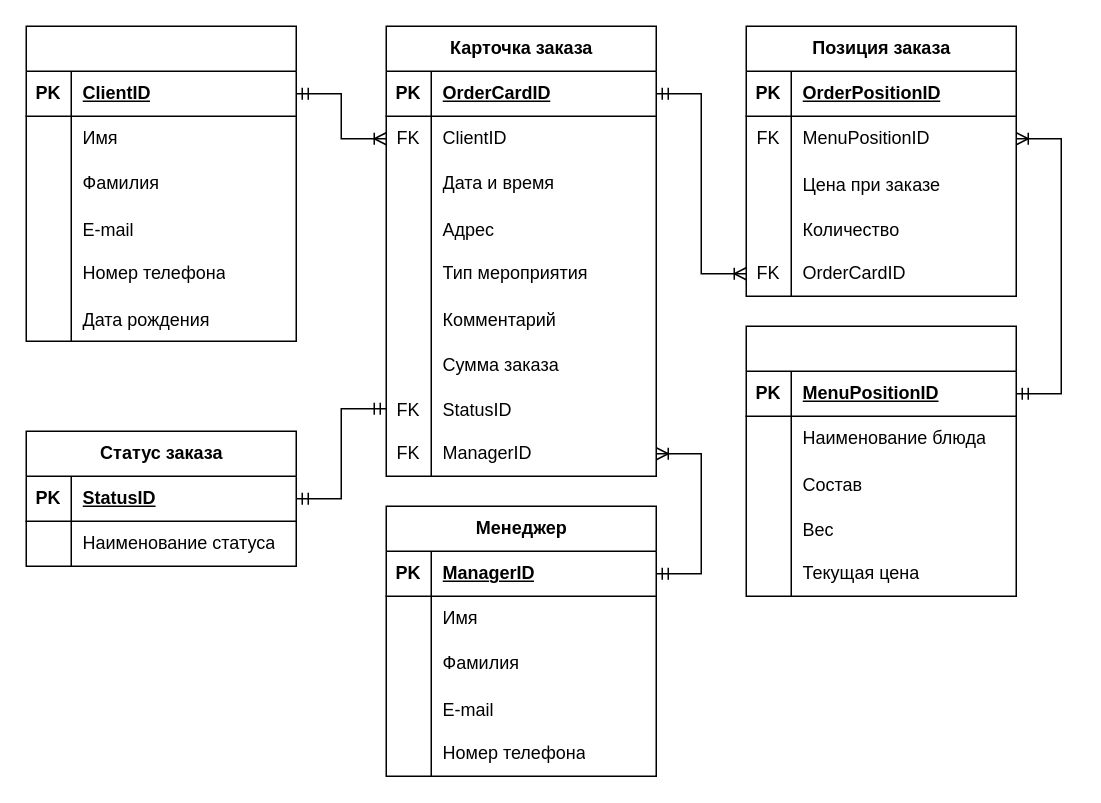
Image size: 1101x803. Some labels were removed from this diagram. Here are the shapes that lost their labels. From the top down, the box of each, then its label:
(25, 25, 296, 341): Клиент
(745, 325, 1016, 596): Позиция меню
